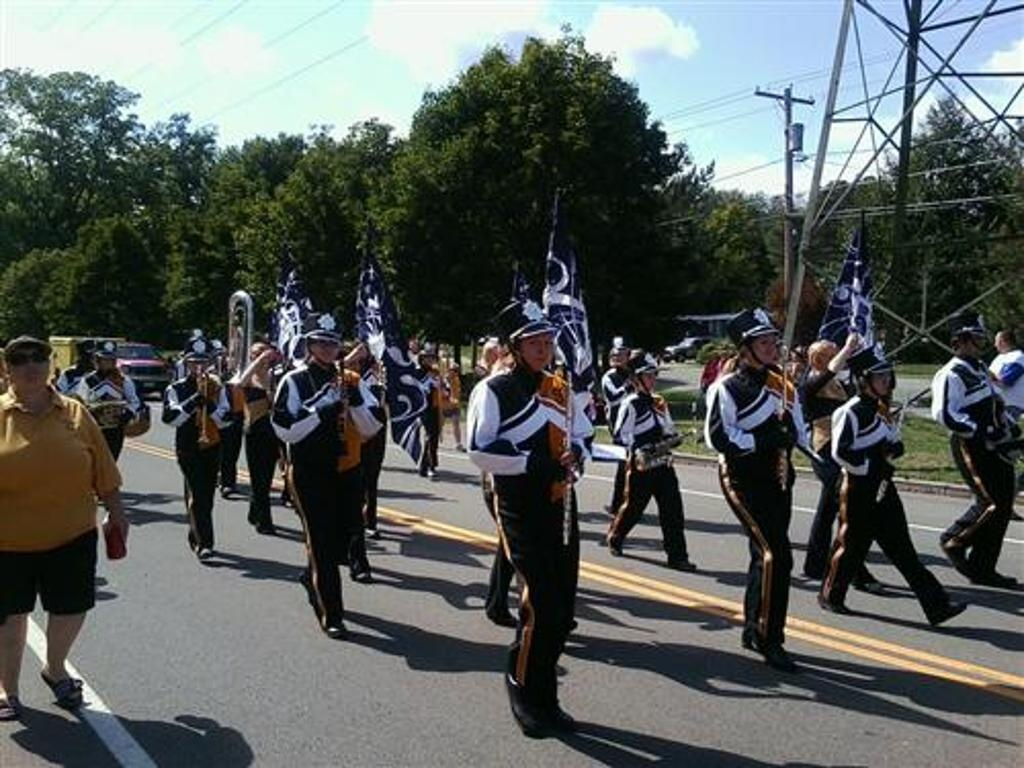human_face: (6, 346, 48, 390), (518, 334, 550, 368), (752, 332, 776, 364), (311, 338, 337, 360), (869, 373, 891, 397), (966, 334, 986, 358), (820, 346, 836, 370), (250, 346, 266, 366), (186, 358, 206, 374), (638, 372, 654, 390), (487, 348, 503, 366), (342, 356, 358, 374), (97, 356, 115, 370), (993, 334, 1007, 350), (610, 352, 626, 366), (418, 354, 432, 368), (80, 350, 94, 364), (420, 355, 432, 367), (448, 364, 458, 376), (408, 340, 416, 348)
